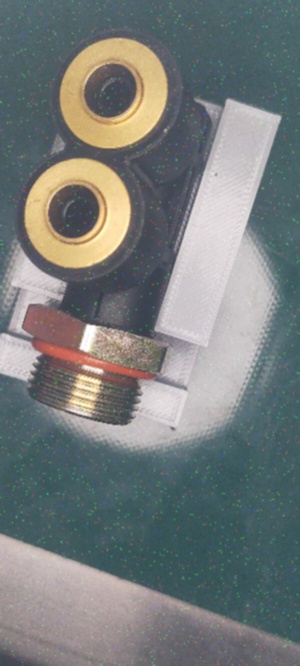craze: (92, 290, 103, 315)
